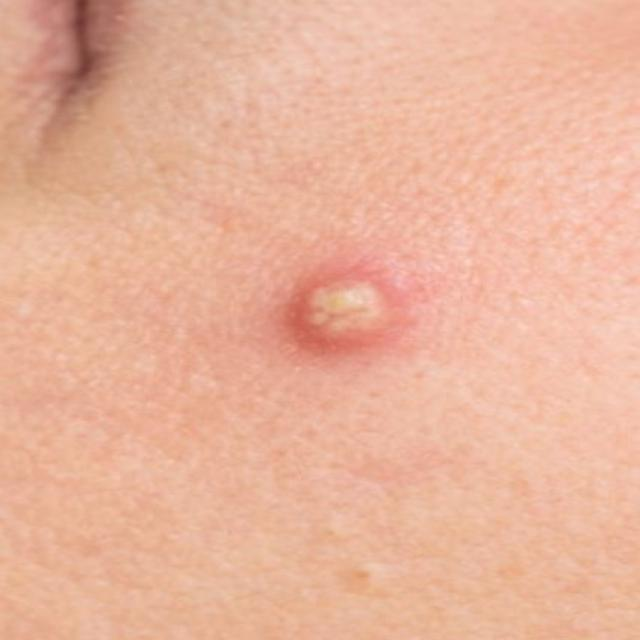pustule: (243, 224, 470, 394)
